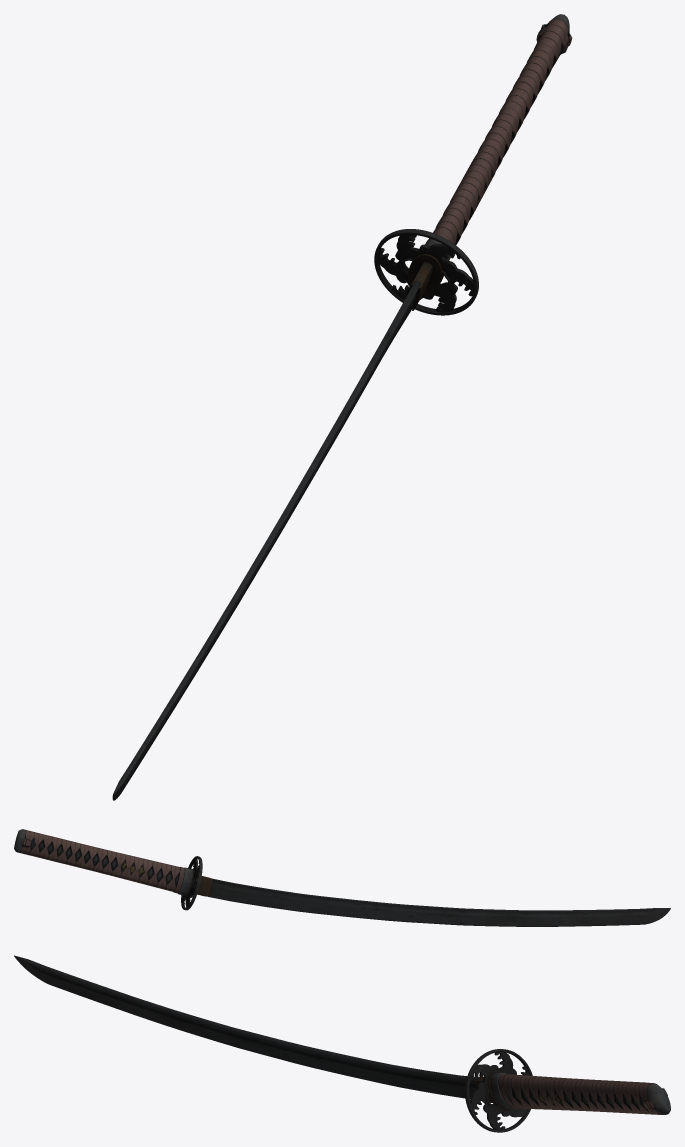
File: katana.glb
The picture shows the model from 3 angles, top to bottom: view 1: azimuth 30°, elevation 25°; view 2: azimuth 150°, elevation 25°; view 3: azimuth 270°, elevation 25°; orthographic projection. The views are drawn at different scales.
Parts seen in each view (by area): view 1: Object_2; view 2: Object_2; view 3: Object_2.
Part boxes in pixels (bbox=[...]): Object_2: bbox=[112, 14, 572, 800]; Object_2: bbox=[14, 829, 670, 926]; Object_2: bbox=[14, 955, 670, 1132].
Bounding box in the file's own units: 87.04 × 26.27 × 74.52.
1 material, 1 textured.
